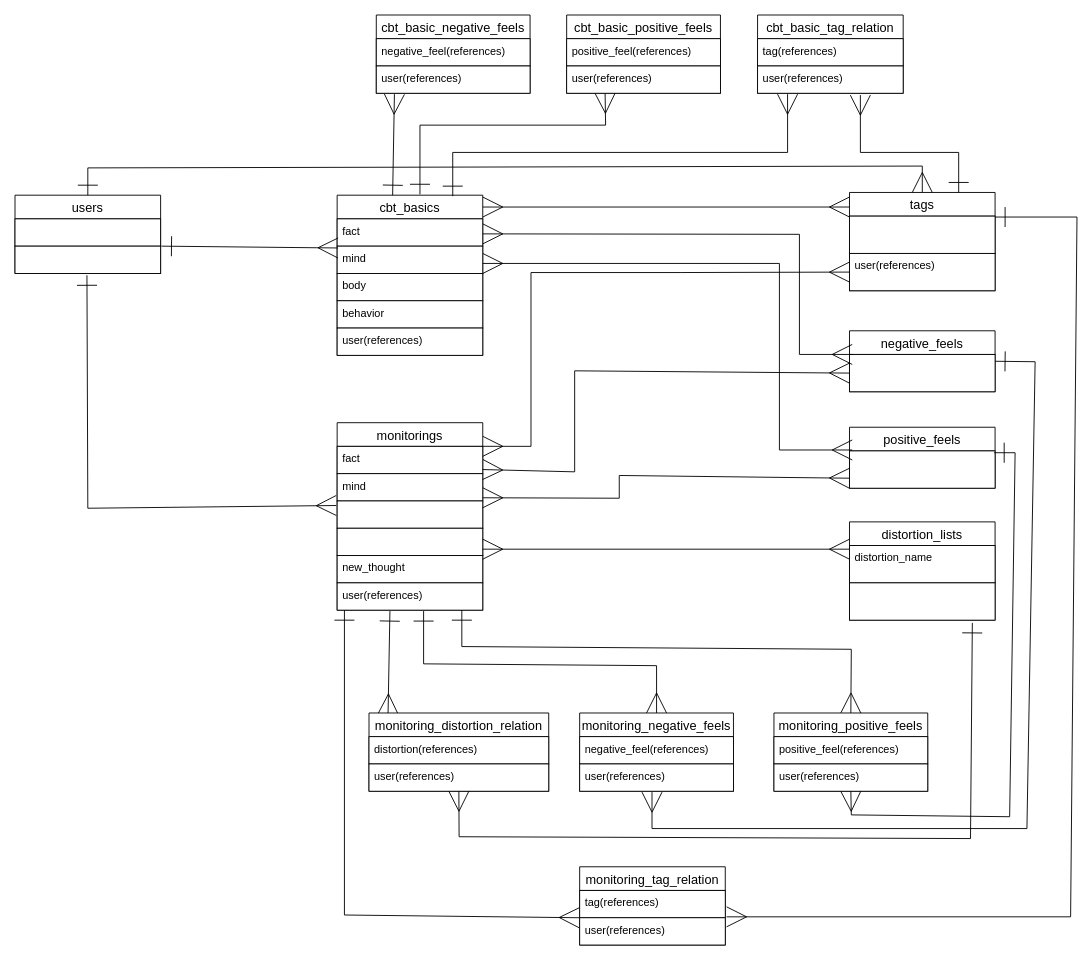
Some shapes in this 1092 by 960 pixel diagram are drawn without their labels. The shapes that lost their labels are listed below. From the top down, each one's centre as x and y in pixels, then its label:
the point at 87,232: email
the point at 922,234: tag_name
the point at 87,259: encrypted_password
the point at 922,373: negative_feel_name
the point at 922,469: positive_feel_name
the point at 409,514: why_correct
the point at 409,541: why_doubt
the point at 922,601: info
